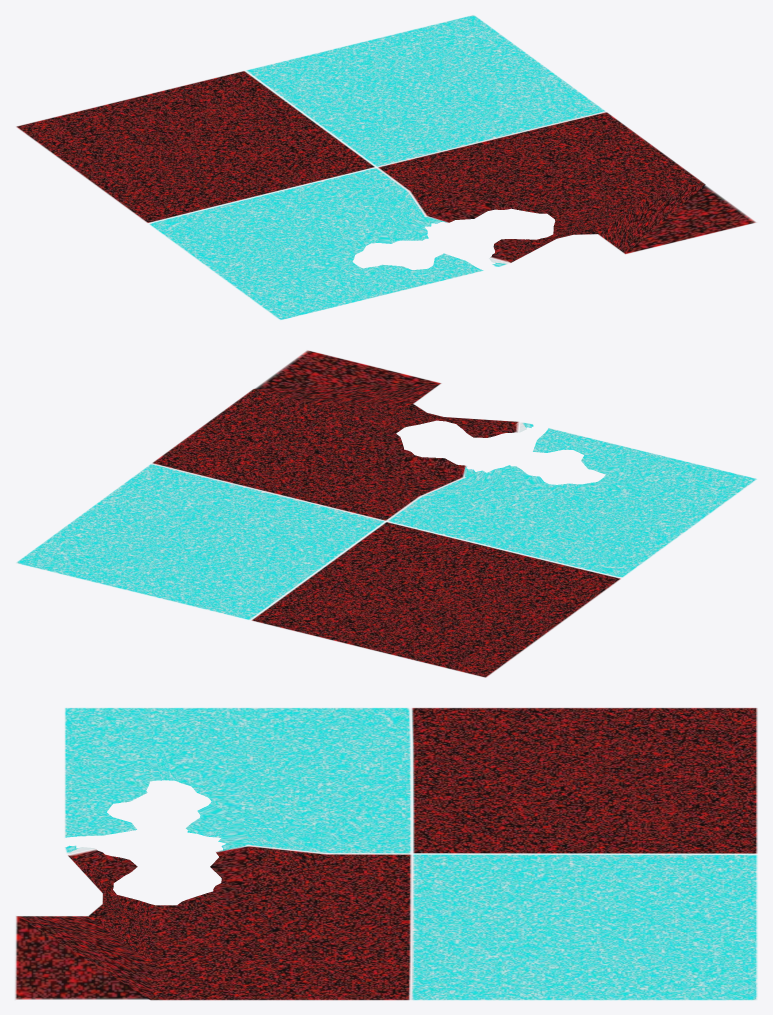
The picture shows the model from 3 angles, top to bottom: view 1: azimuth 30°, elevation 25°; view 2: azimuth 150°, elevation 25°; view 3: azimuth 270°, elevation 25°; orthographic projection. The views are drawn at different scales.
Visible parts, largest first — view 1: SM_FellhollowOcean_LOD0; view 2: SM_FellhollowOcean_LOD0; view 3: SM_FellhollowOcean_LOD0.
Part boxes in pixels (<box>): SM_FellhollowOcean_LOD0: <box>16,15,755,319</box>; SM_FellhollowOcean_LOD0: <box>16,350,756,677</box>; SM_FellhollowOcean_LOD0: <box>15,708,757,1000</box>.
Size of the model in its own units: 5000 by 0 by 5360.
Materials: 1 (1 with a texture image).
